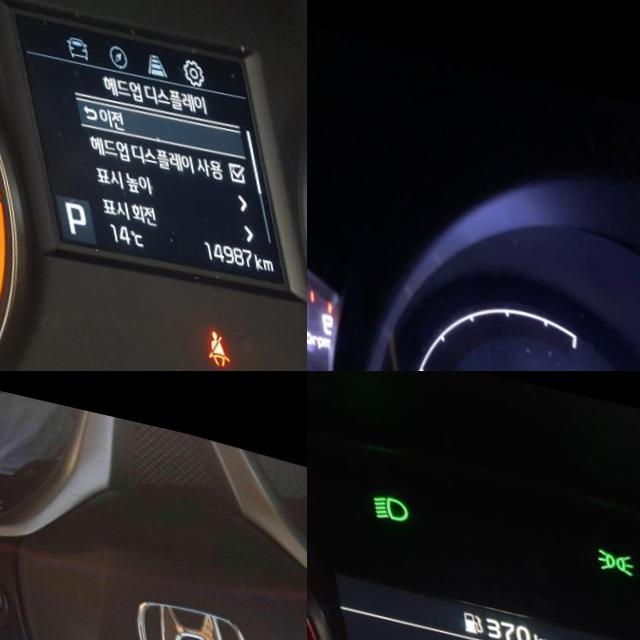Low beam: (363, 478, 405, 513)
SideLamp: (590, 523, 629, 554)
